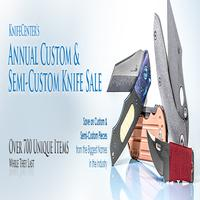knife: (150, 2, 196, 171), (101, 46, 151, 164), (142, 128, 195, 185)
